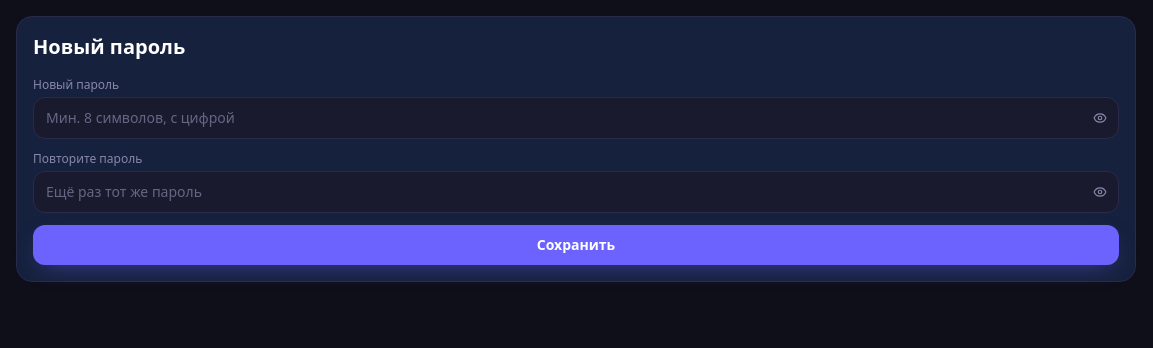
Test: /reset-password › без цифры — та же ветка
In the password field labelled "Новый пароль": coordinates (576, 118) [33,97,1119,139], type "abcdefgh"
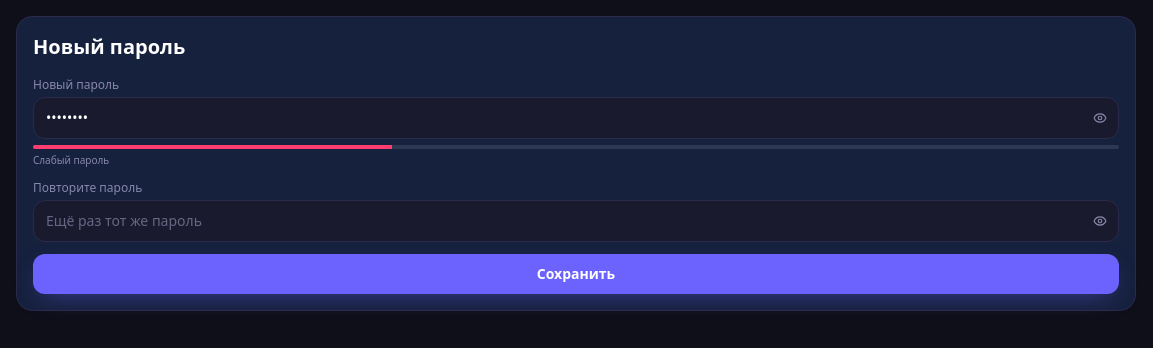
In the password field labelled "Повторите пароль": coordinates (576, 221) [33,200,1119,242], type "abcdefgh"
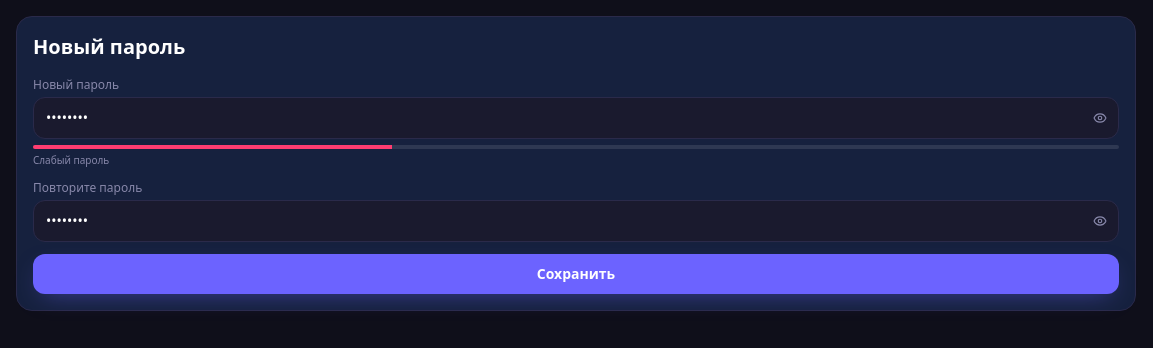
Click the button "Сохранить": coordinates (576, 274) [33,254,1119,294]
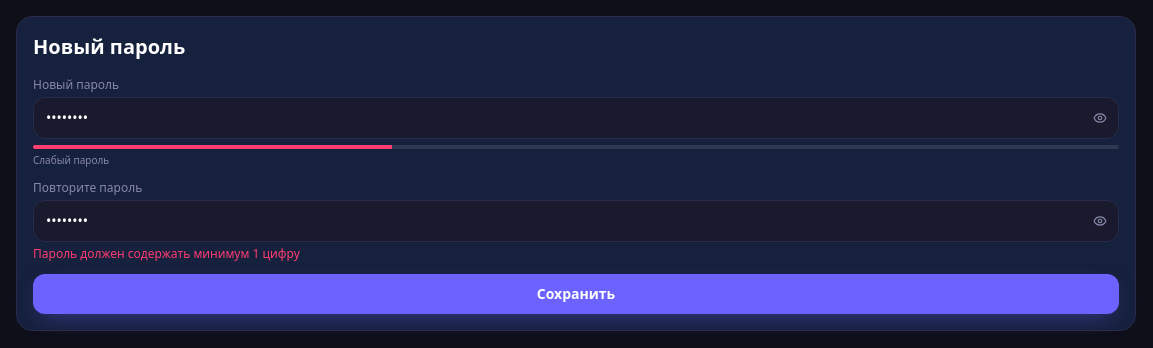
Now the message reads "Пароль должен содержать минимум 1 цифру", box [33,245,300,262]
